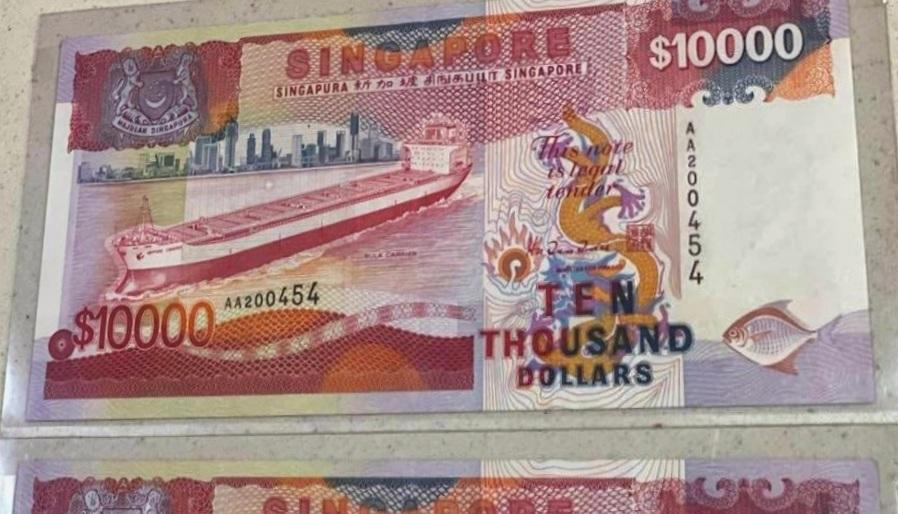10000SingaporeDollar: (51, 3, 854, 397)
